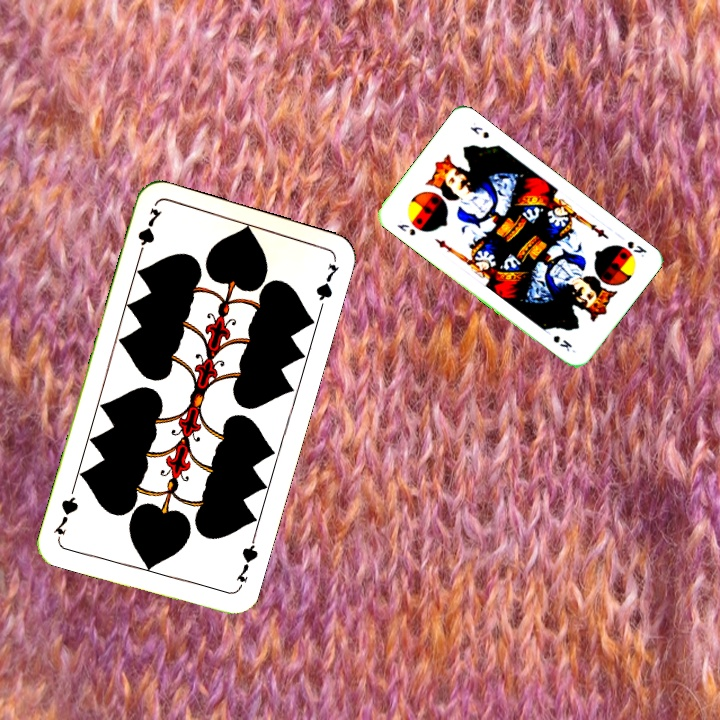G7: (133, 204, 164, 261), (232, 534, 261, 592)
SK: (623, 237, 649, 260), (393, 220, 418, 238)
